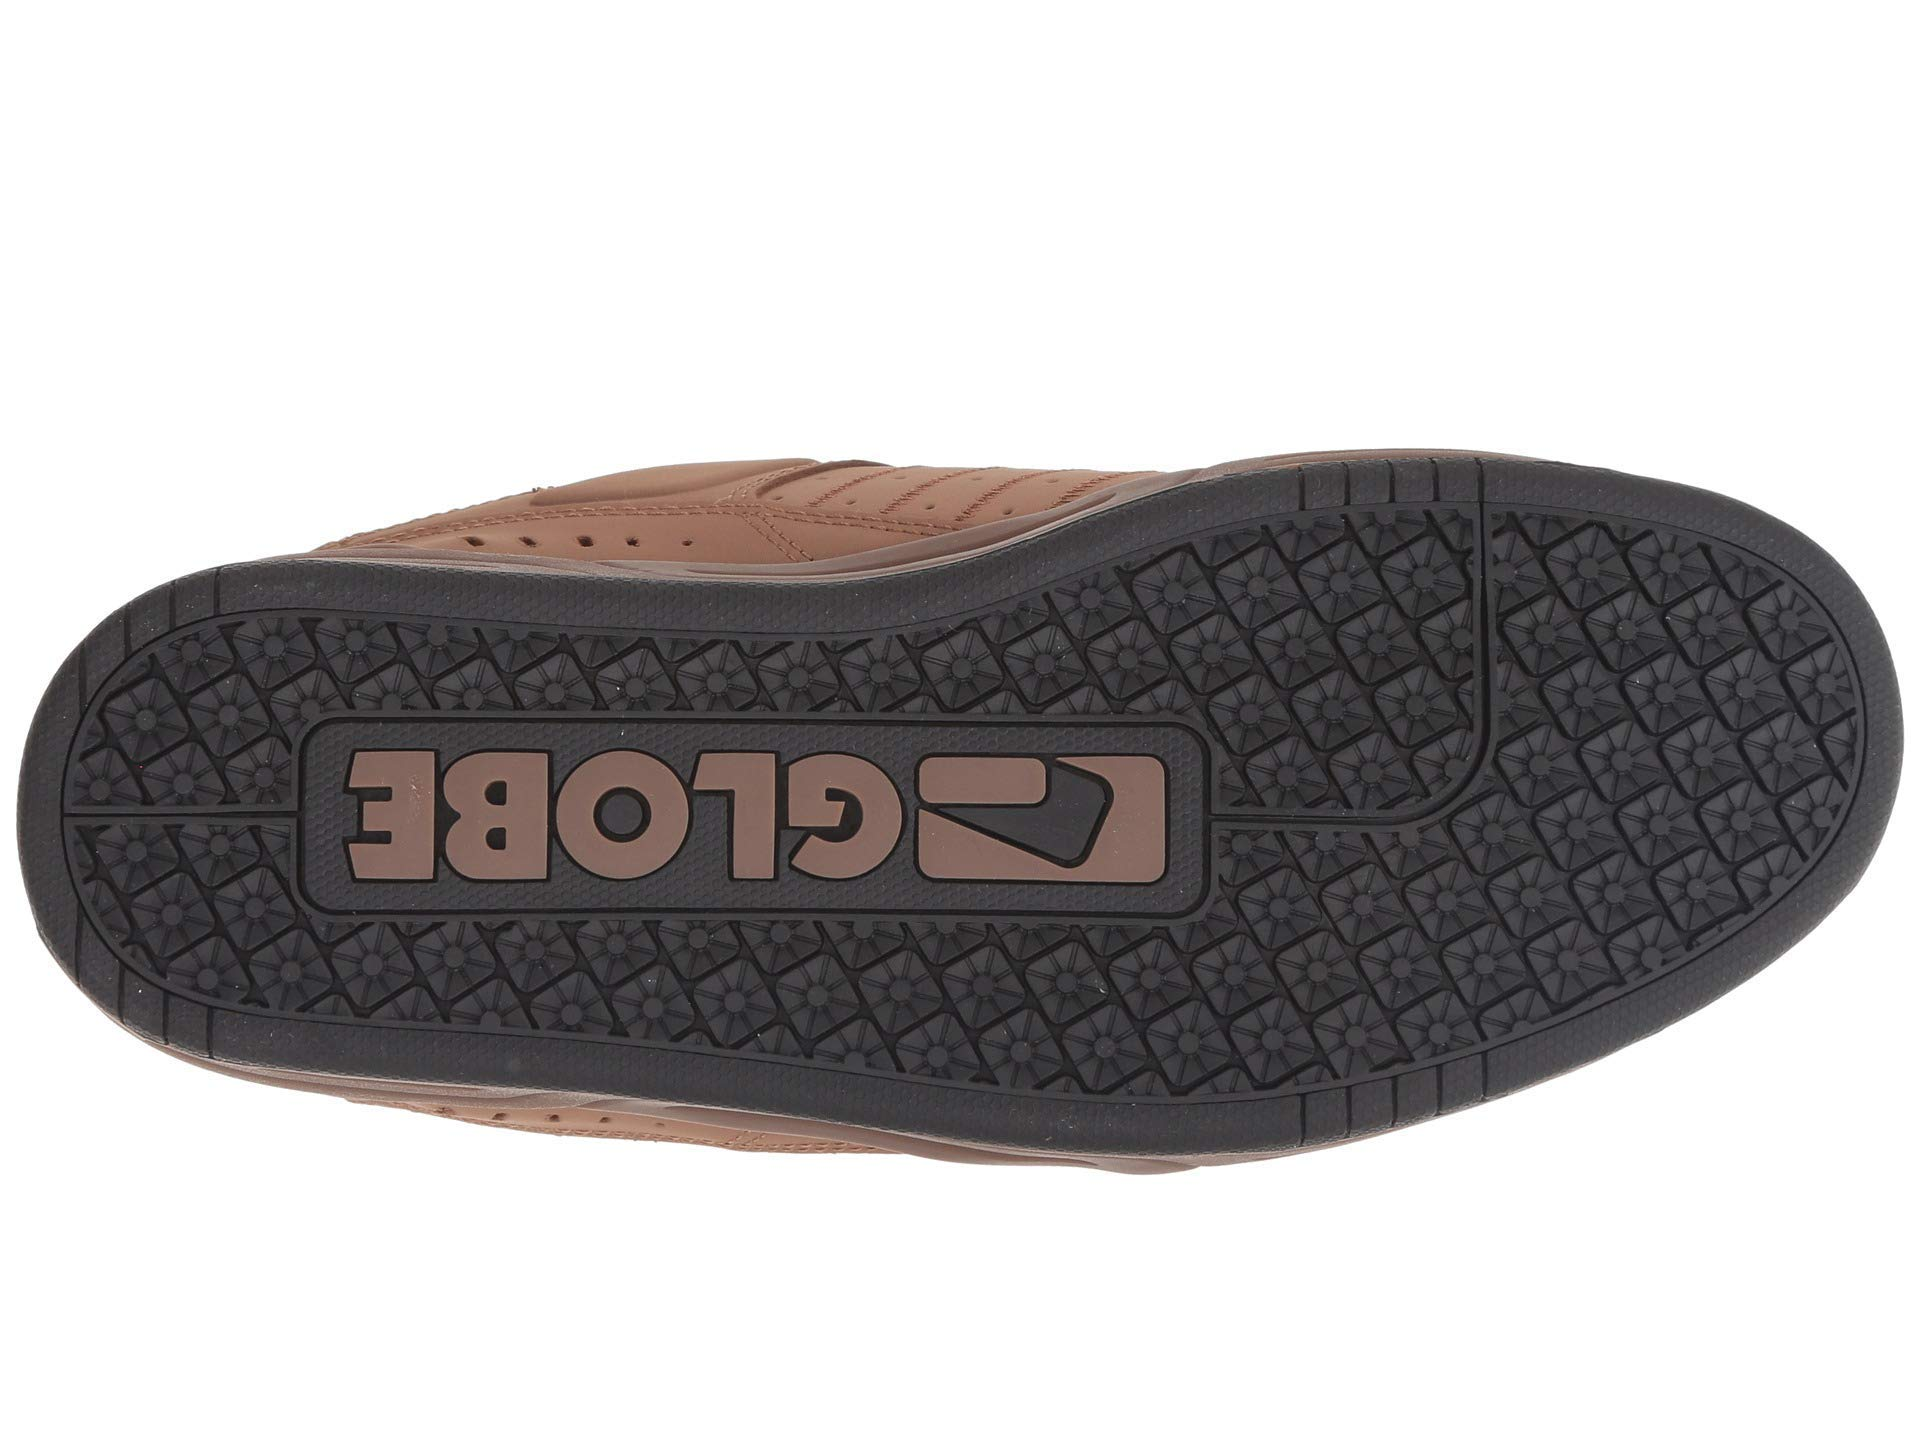circle: (1211, 508, 1634, 971), (299, 667, 726, 1024)
quad: (1211, 508, 1634, 971), (299, 667, 726, 1024)
star: (1211, 508, 1634, 971), (299, 667, 726, 1024)
text: (299, 667, 726, 1024)
